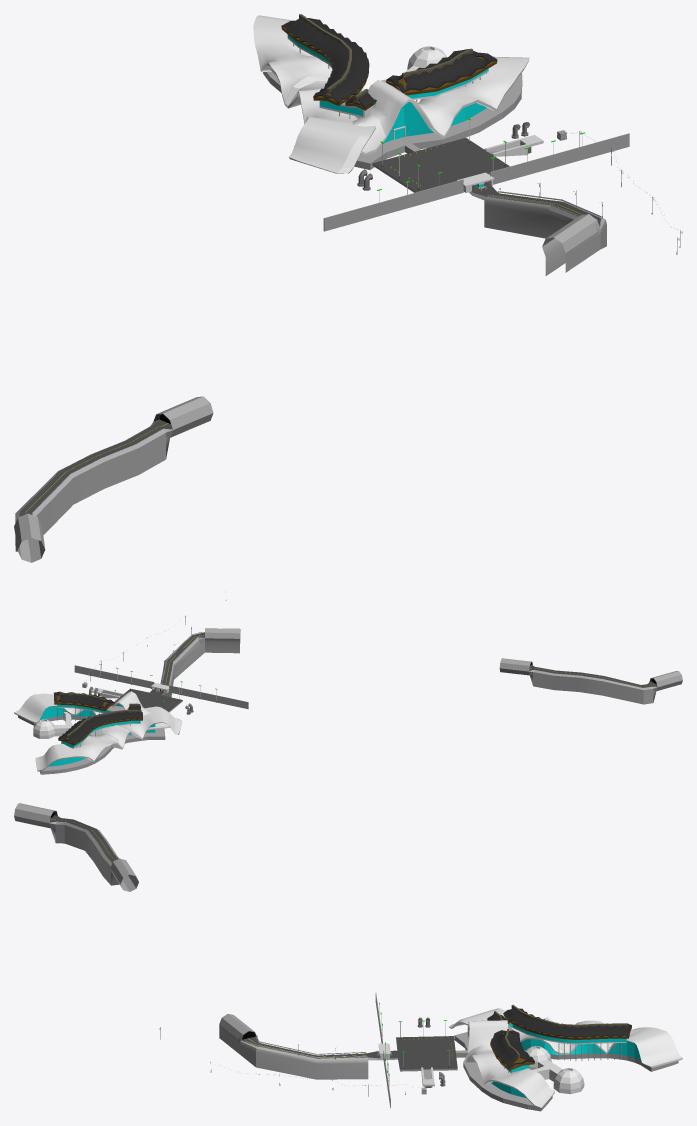
File: complexo_v5.fbx
3 views of the same model, one above another, from view 1: azimuth 30°, elevation 25°; view 2: azimuth 150°, elevation 25°; view 3: azimuth 270°, elevation 25° (orthographic). The views are drawn at different scales.
Parts seen in each view (by area): view 1: pasted__complexo, polySurface12, polySurface32, polySurface31, pCube17, pCube9; view 2: pasted__complexo, polySurface12, polySurface32, polySurface31, pCube17, pCube9; view 3: pasted__complexo, polySurface32, polySurface12, polySurface31.
Boxes of the visible parts, x1,y1,x2,y2 form: pasted__complexo: (253, 14, 529, 173); polySurface12: (14, 396, 213, 562); polySurface32: (484, 193, 606, 275); polySurface31: (372, 138, 509, 200); pCube17: (323, 179, 463, 231); pCube9: (490, 133, 629, 184); pasted__complexo: (14, 691, 182, 774); polySurface12: (499, 658, 682, 704); polySurface32: (160, 628, 240, 697); polySurface31: (114, 684, 182, 712); pCube17: (169, 685, 248, 709); pCube9: (74, 665, 154, 688); pasted__complexo: (449, 1005, 682, 1111); polySurface32: (219, 1014, 368, 1079); polySurface12: (14, 803, 138, 891); polySurface31: (366, 1036, 457, 1071).
Bounding box in the file's own units: 367 × 34.84 × 348.
